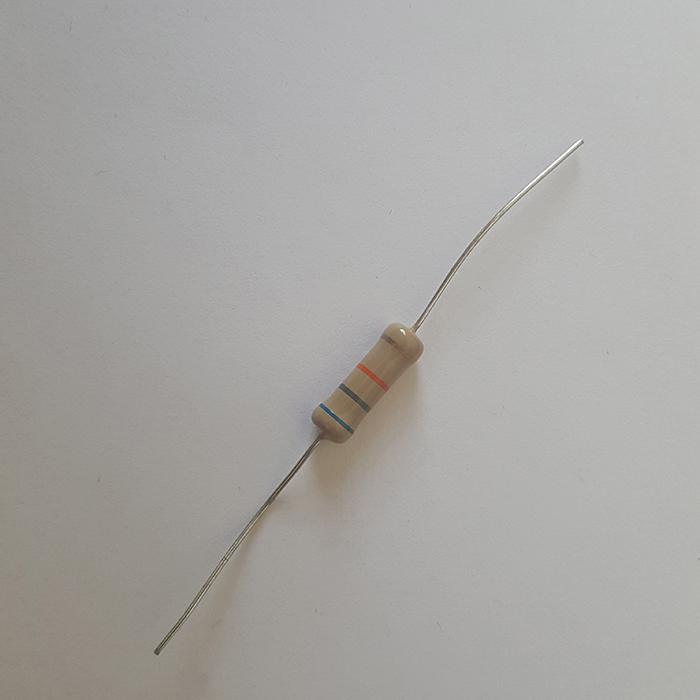resistor: (312, 322, 421, 443)
